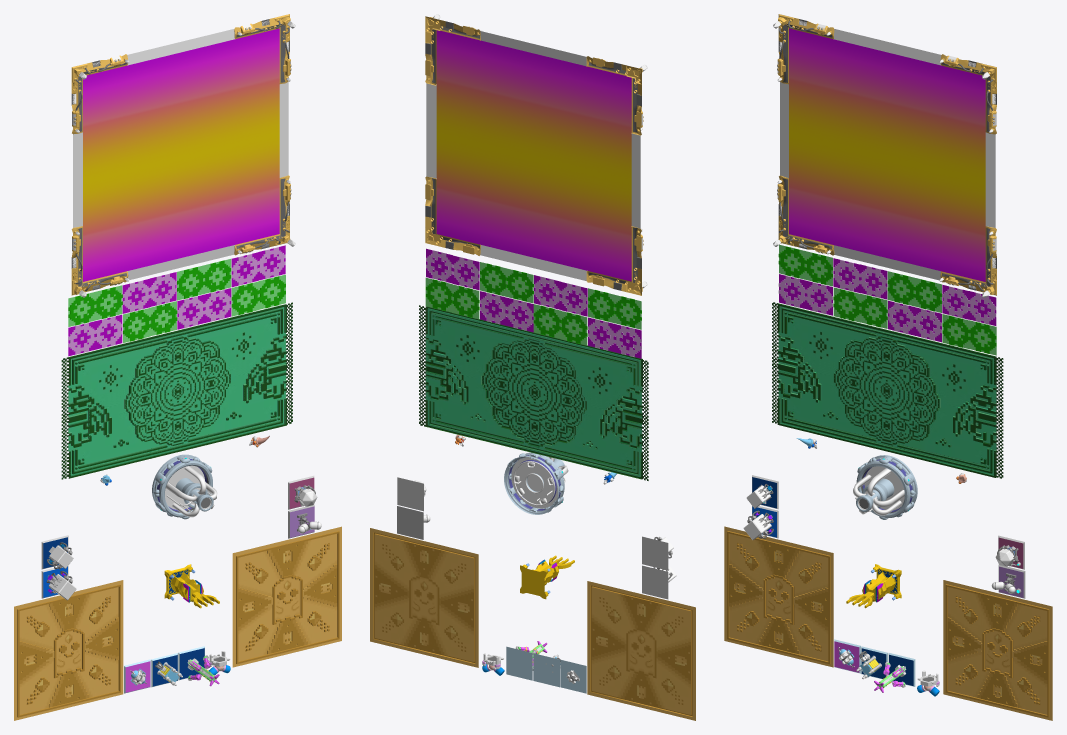
File: Parcel4_Original.fbx
The picture shows the model from 3 angles, left to right: view 1: azimuth 30°, elevation 25°; view 2: azimuth 150°, elevation 25°; view 3: azimuth 330°, elevation 25°; orthographic projection.
Parts seen in each view (by area): view 1: Parcel4_Original; view 2: Parcel4_Original; view 3: Parcel4_Original.
Part boxes in pixels (left/top/right/bottom): Parcel4_Original: left=14, top=14, right=341, bottom=720; Parcel4_Original: left=370, top=14, right=695, bottom=720; Parcel4_Original: left=724, top=14, right=1052, bottom=720.
Size of the model in its own units: 246 by 462 by 47.64.
